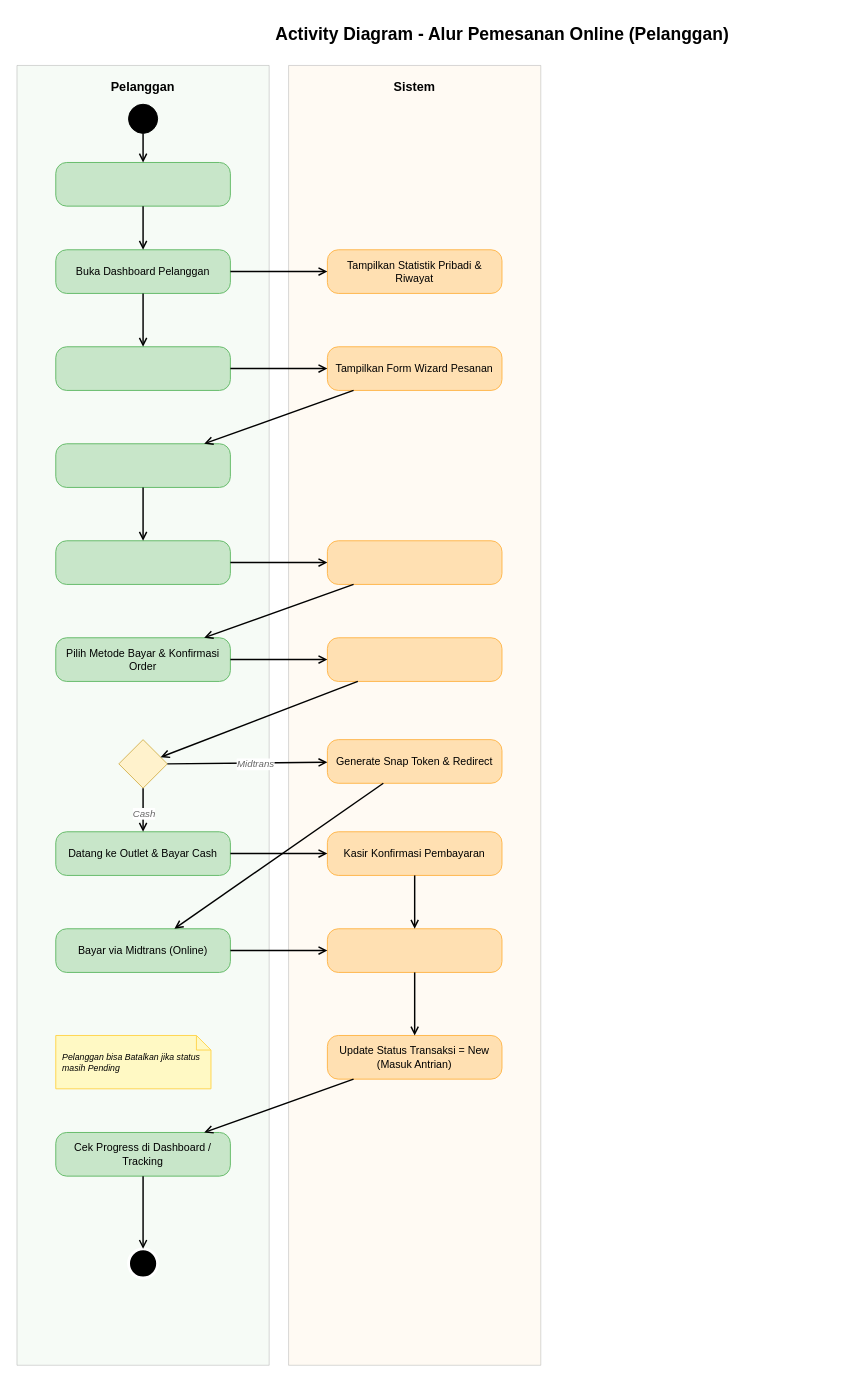
Image size: 858x1382. Some labels were removed from this diagram. The centre of each missing label's shape, as x and y in pixels:
Hitung Total, Diskon & Tampilkan Ringkasan: pixel 414 562
Klik Buat Order Baru: pixel 142 368
Login / Register ke Sistem: pixel 142 184
Masukkan Kode Promo (Opsional): pixel 142 562
Pilih Layanan & Masukkan Qty/Berat: pixel 142 465
Simpan Transaksi Status = Pending: pixel 414 659
Update Status Payment = Paid: pixel 414 950
